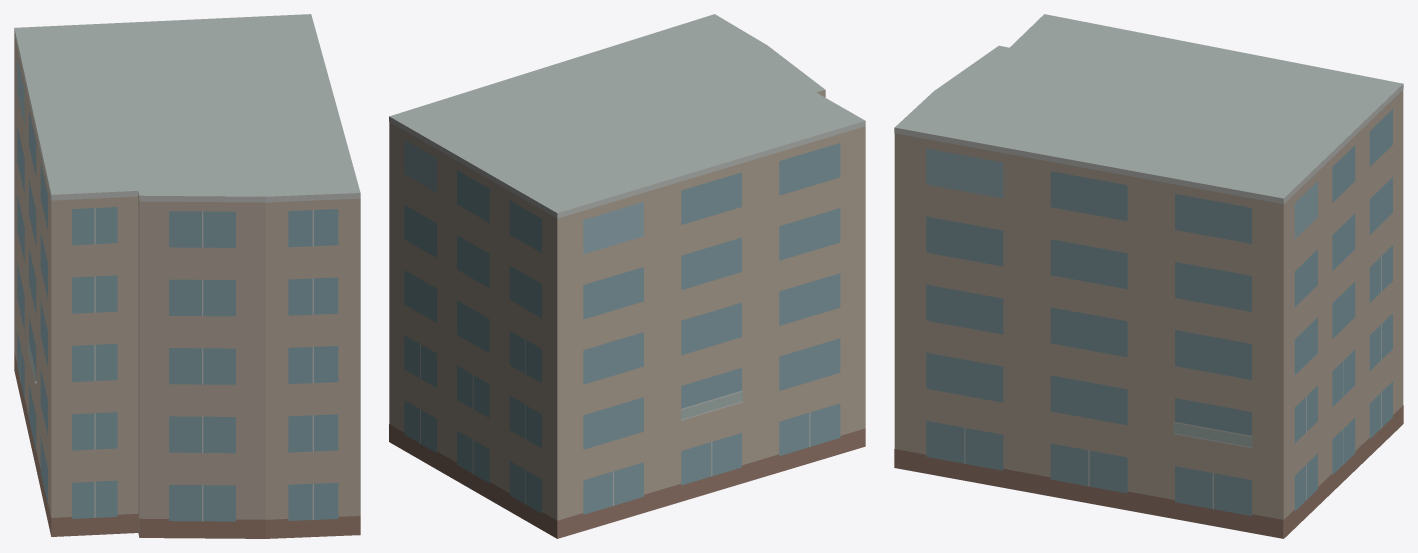
File: survey-upis-32530523.glb
3 views of the same model, side by side, from view 1: azimuth 30°, elevation 25°; view 2: azimuth 150°, elevation 25°; view 3: azimuth 270°, elevation 25° (orthographic). The views are drawn at different scales.
Parts seen in each view (by area): view 1: survey-upis-32530523.tmp; view 2: survey-upis-32530523.tmp; view 3: survey-upis-32530523.tmp.
Boxes of the visible parts, x1,y1,x2,y2 form: survey-upis-32530523.tmp: (14, 14, 360, 538); survey-upis-32530523.tmp: (389, 14, 865, 538); survey-upis-32530523.tmp: (894, 14, 1403, 538).
Bounding box in the file's own units: 16.99 × 14.6 × 19.8.
